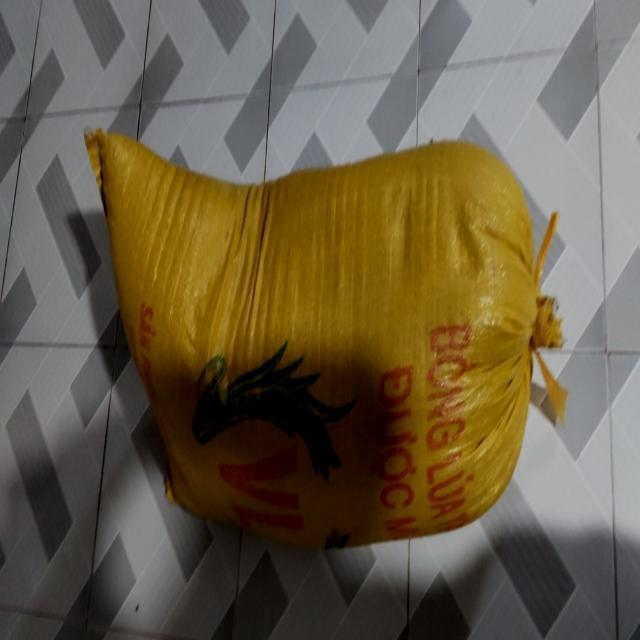gunny_bag: (85, 128, 563, 547)
